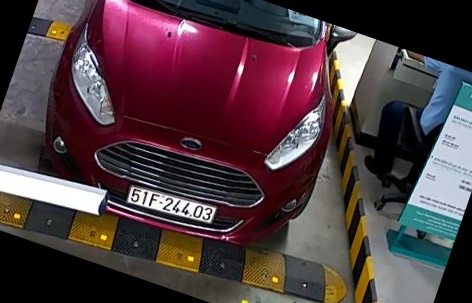plate: (123, 181, 227, 236)
